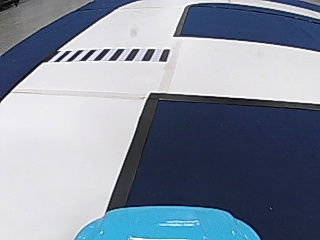CrossWalk: (53, 46, 174, 63)
